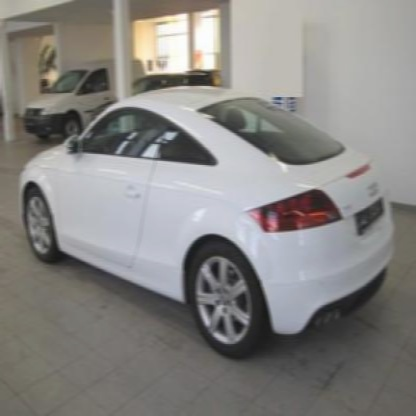Vehicle: (16, 80, 402, 351)
